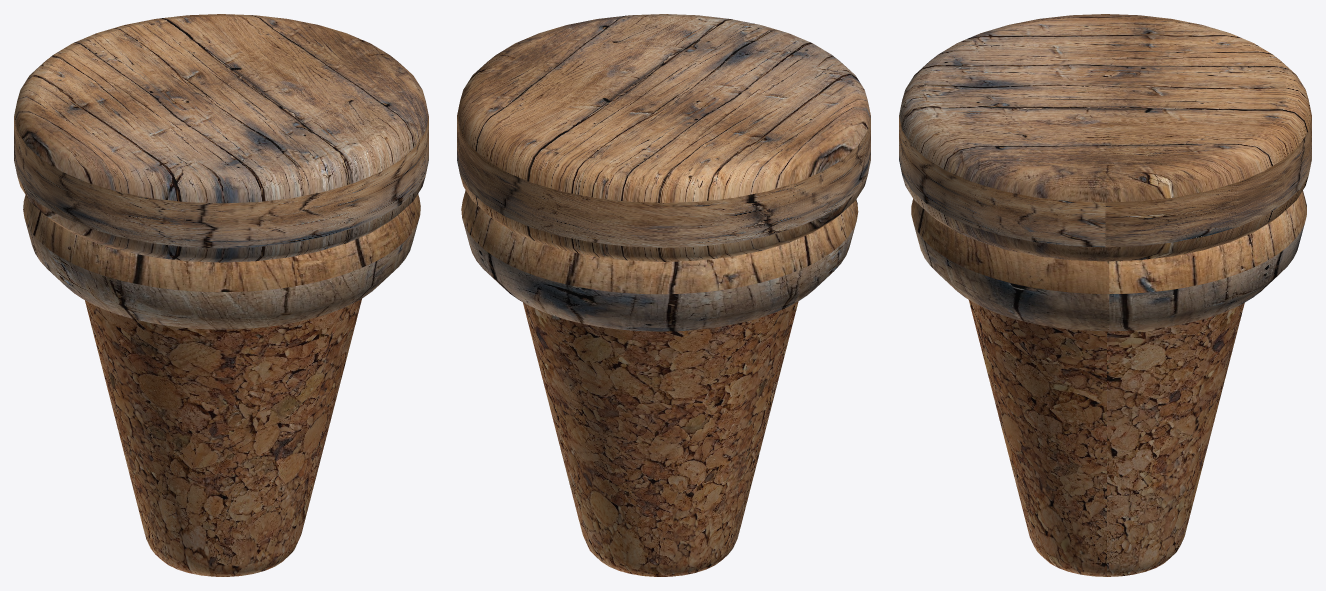
The model's file is BottleCap.fbx.
3 views of the same model, side by side, from view 1: azimuth 30°, elevation 25°; view 2: azimuth 150°, elevation 25°; view 3: azimuth 270°, elevation 25° (orthographic).
Visible parts, largest first — view 1: Extrude_3, Cone_1, Torus; view 2: Extrude_3, Cone_1, Torus; view 3: Extrude_3, Cone_1, Torus.
Boxes of the visible parts, x1=… form: Extrude_3: x1=14, y1=14, x2=428, y2=262; Cone_1: x1=85, y1=298, x2=361, y2=576; Torus: x1=23, y1=194, x2=420, y2=329; Extrude_3: x1=457, y1=14, x2=870, y2=261; Cone_1: x1=523, y1=301, x2=798, y2=576; Torus: x1=461, y1=190, x2=858, y2=331; Extrude_3: x1=899, y1=14, x2=1311, y2=261; Cone_1: x1=969, y1=300, x2=1244, y2=576; Torus: x1=911, y1=191, x2=1306, y2=331.
Size of the model in its own units: 33.02 by 40.35 by 33.02.
2 materials, 2 textured.
